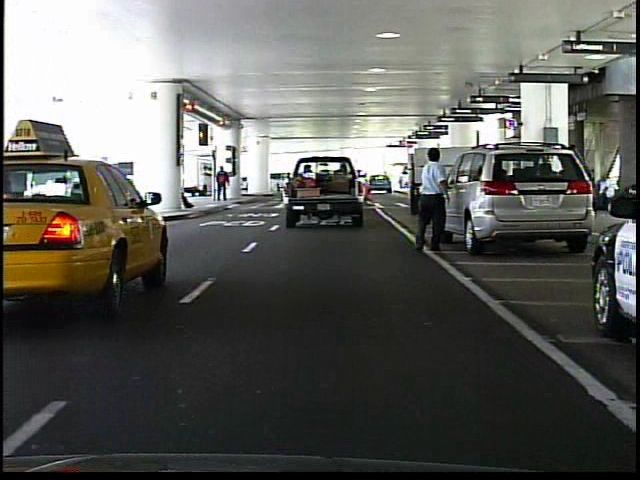person: (407, 144, 456, 257), (214, 163, 233, 204)
